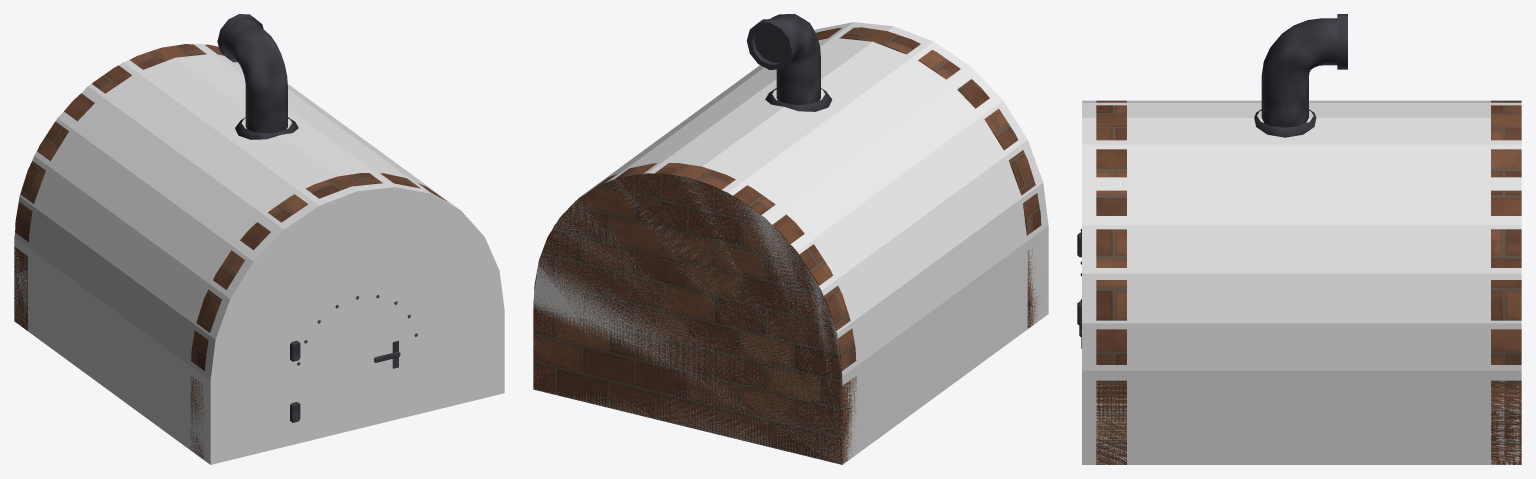
The model's file is SM_Forge_Furnace.fbx.
3 views of the same model, side by side, from view 1: azimuth 30°, elevation 25°; view 2: azimuth 150°, elevation 25°; view 3: azimuth 270°, elevation 25° (orthographic). The views are drawn at different scales.
Parts seen in each view (by area): view 1: Furnace_Col0, Furnace_Body; view 2: Furnace_Col0, Furnace_Body; view 3: Furnace_Col0, Furnace_Body.
Boxes of the visible parts, x1,y1,x2,y2 form: Furnace_Col0: (14,43,504,464); Furnace_Body: (14,14,446,458); Furnace_Col0: (533,22,1048,464); Furnace_Body: (533,14,1041,464); Furnace_Col0: (1082,100,1521,464); Furnace_Body: (1077,14,1521,464).
Bounding box in the file's own units: 16.1 × 17.18 × 18.8.
